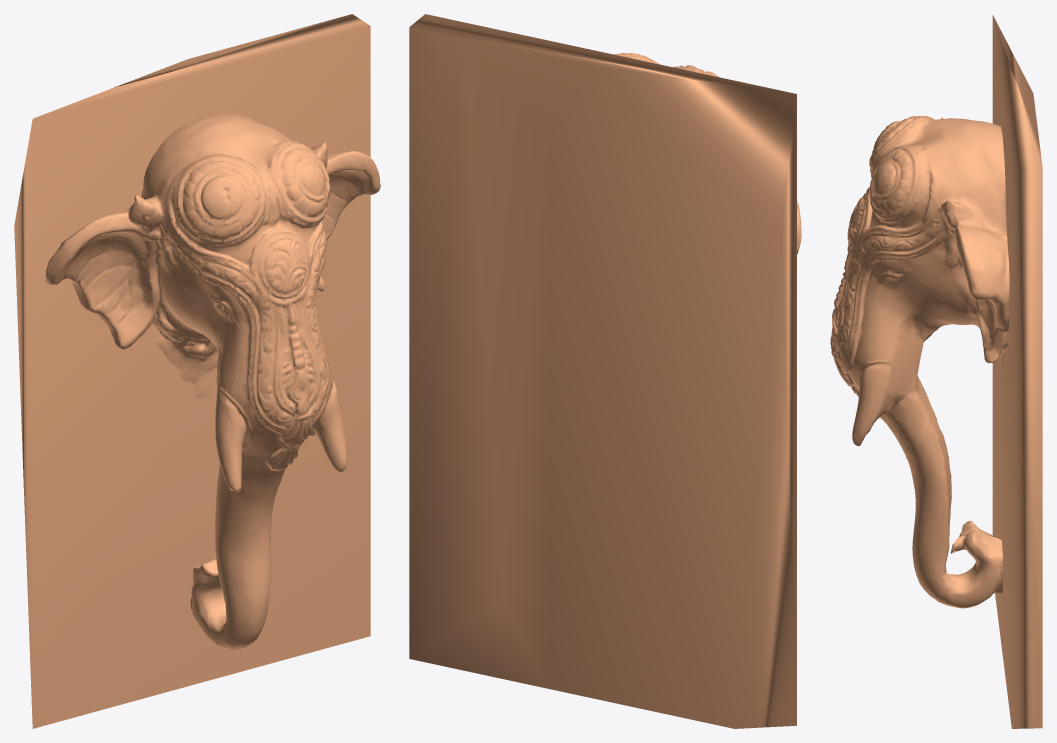
File: Other_categories_Elephant_Face_02.glb
3 renders of one model, left to right at view 1: azimuth 30°, elevation 25°; view 2: azimuth 150°, elevation 25°; view 3: azimuth 270°, elevation 25°, orthographic. The views are drawn at different scales.
Parts seen in each view (by area): view 1: Other_categories_Elephant_Face_02; view 2: Other_categories_Elephant_Face_02; view 3: Other_categories_Elephant_Face_02.
Boxes of the visible parts, x1,y1,x2,y2 form: Other_categories_Elephant_Face_02: (14,14,380,728); Other_categories_Elephant_Face_02: (409,14,801,728); Other_categories_Elephant_Face_02: (830,15,1042,728).
Bounding box in the file's own units: 0.3508 × 0.5843 × 0.2014.
